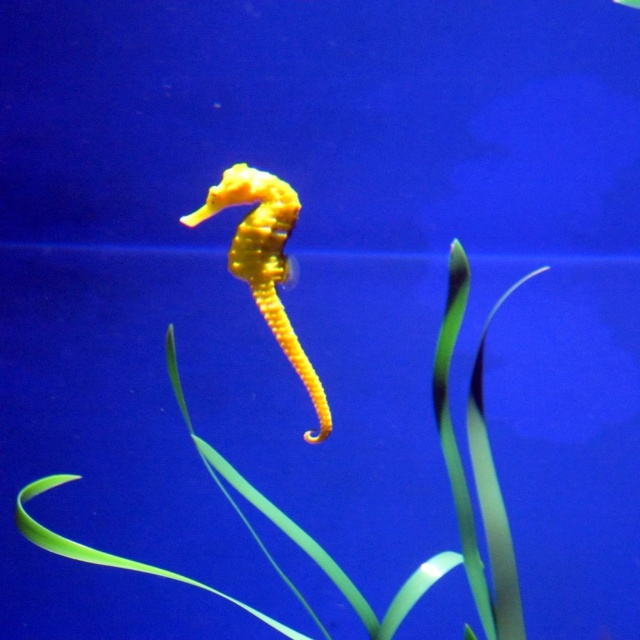Seahorse: (177, 162, 335, 445)
